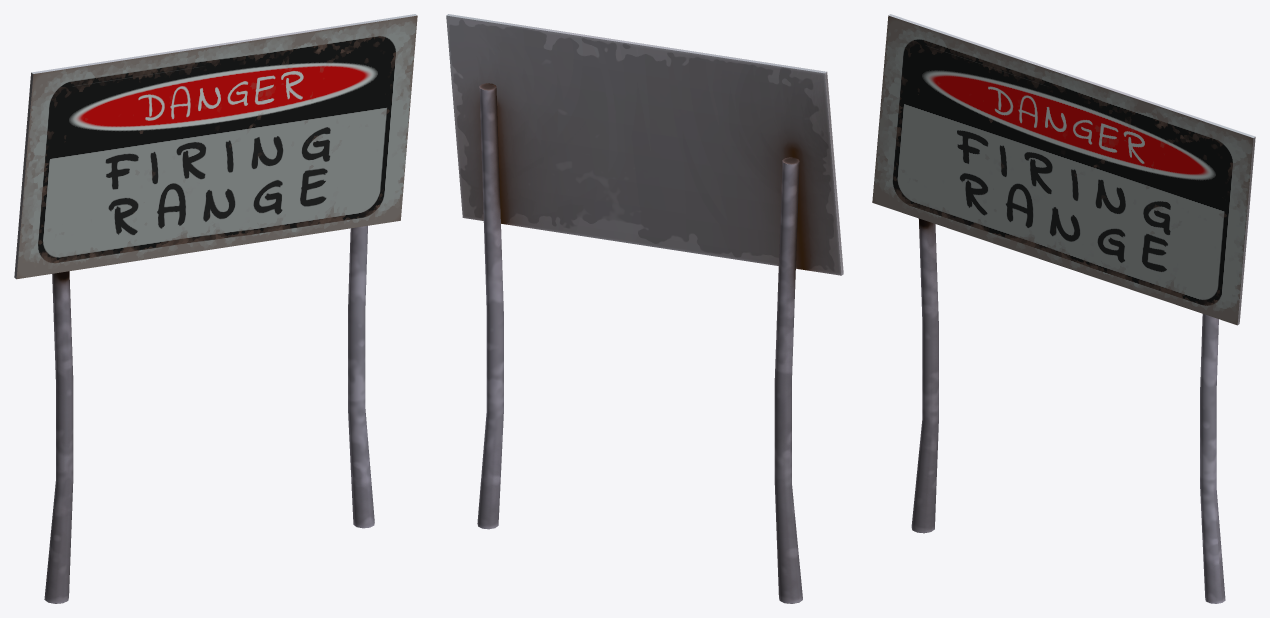
File: Sign01_2.FBX
3 renders of one model, left to right at view 1: azimuth 30°, elevation 25°; view 2: azimuth 150°, elevation 25°; view 3: azimuth 330°, elevation 25°, orthographic. The views are drawn at different scales.
Parts seen in each view (by area): view 1: Sign01_2; view 2: Sign01_2; view 3: Sign01_2.
Part boxes in pixels (x1,y1,x2,y2): Sign01_2: (14,14,417,603); Sign01_2: (446,14,843,603); Sign01_2: (872,14,1255,603).
Size of what is drawn, in the model's own units: 1.04 by 1.33 by 0.0585.
